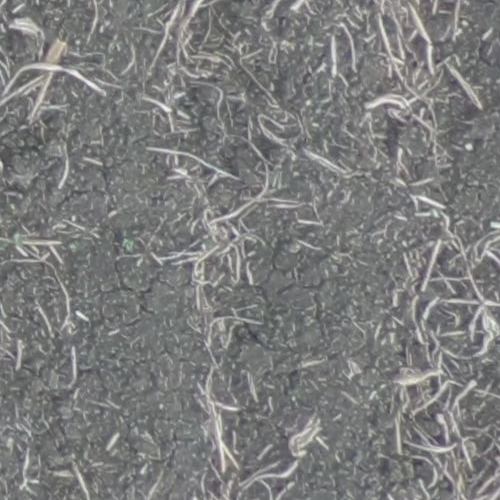plant: (0, 231, 28, 253), (122, 235, 138, 254)
